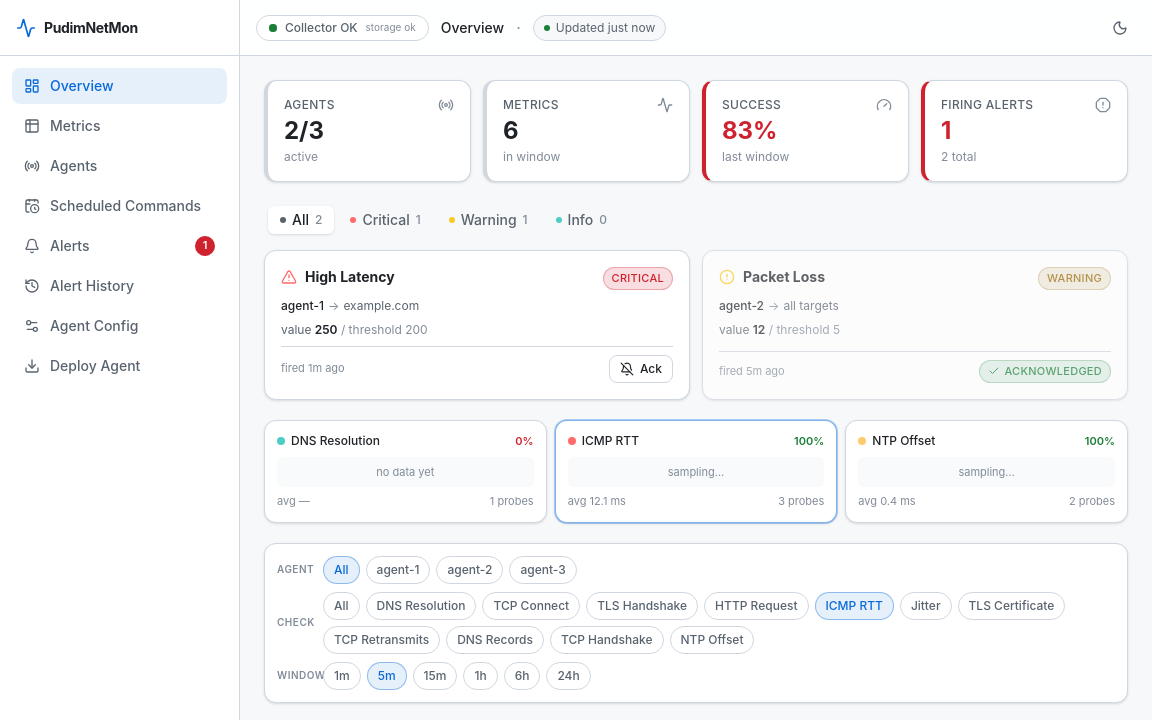
Test: PudimNetMon dashboard › shows a toast when an alert is acknowledged
Click the button "Ack": {"x": 641, "y": 368} [609,354,673,382]
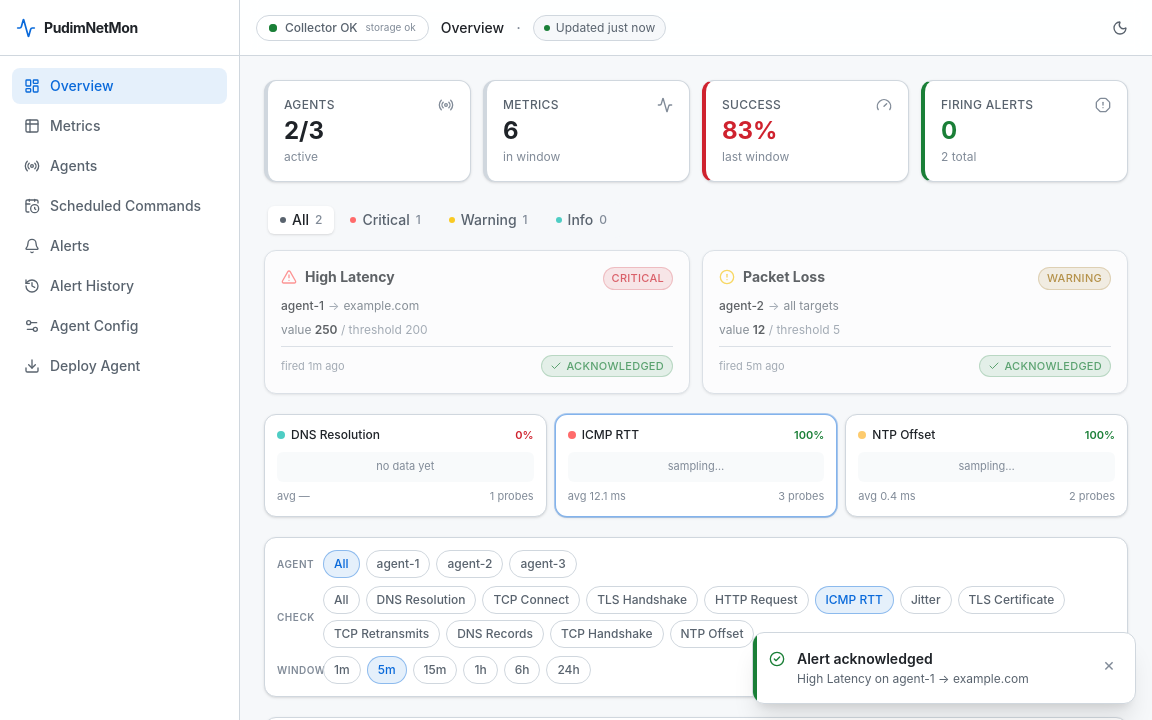
Expected: the text "Alert acknowledged" is shown, [797,650,933,667]
